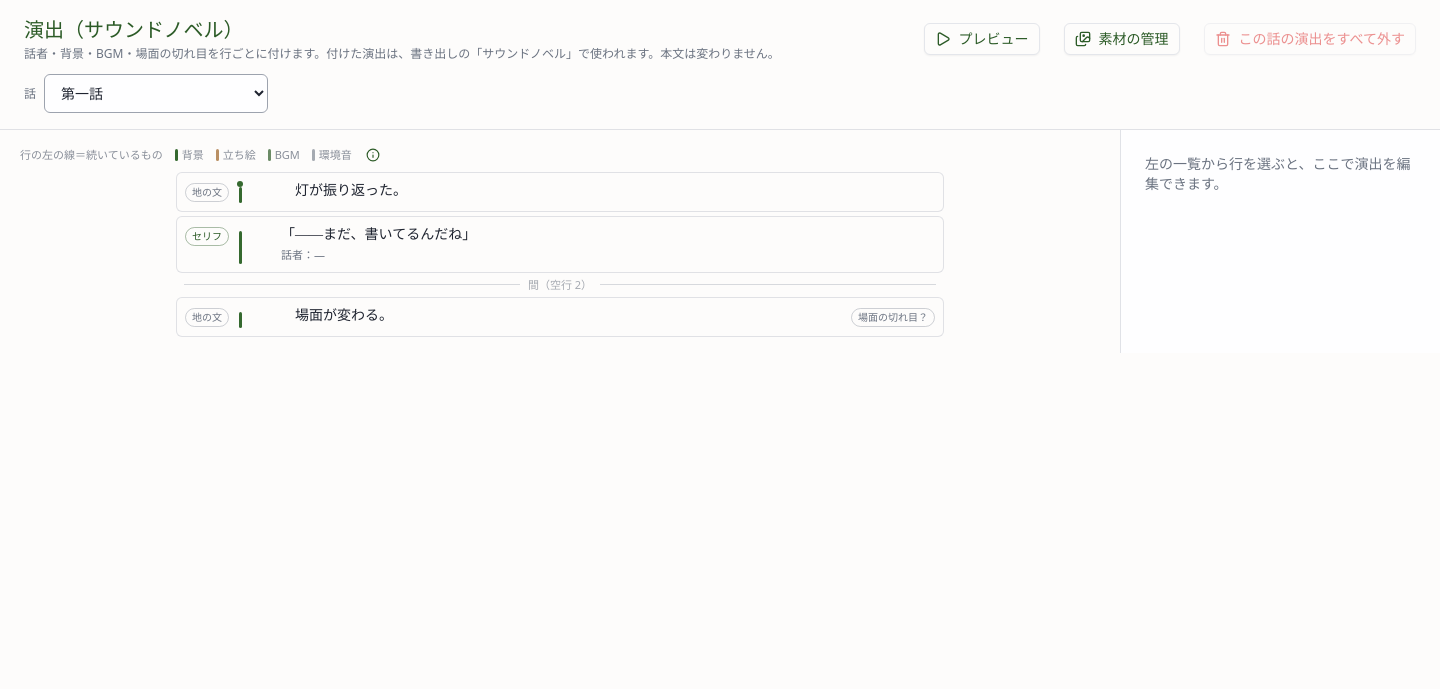
Test: StagingView（演出エディタ） › 地の文の行でも席に人物を立たせられる（話者は要らない）
Click the text "灯が振り返った。": (344, 190) [281, 183, 407, 198]
(page scrolled)
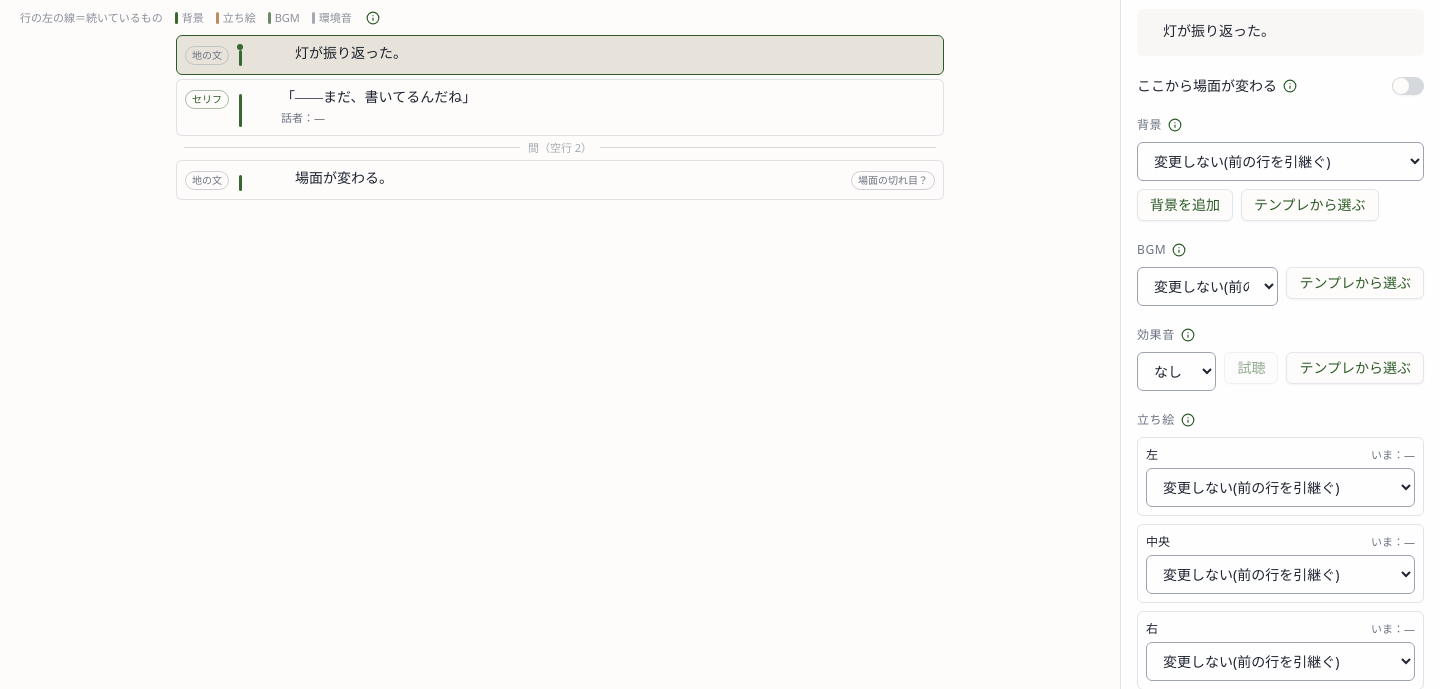
Select "灯" in the dropdown named "右の立ち絵": (1280, 661) [1146, 642, 1415, 681]
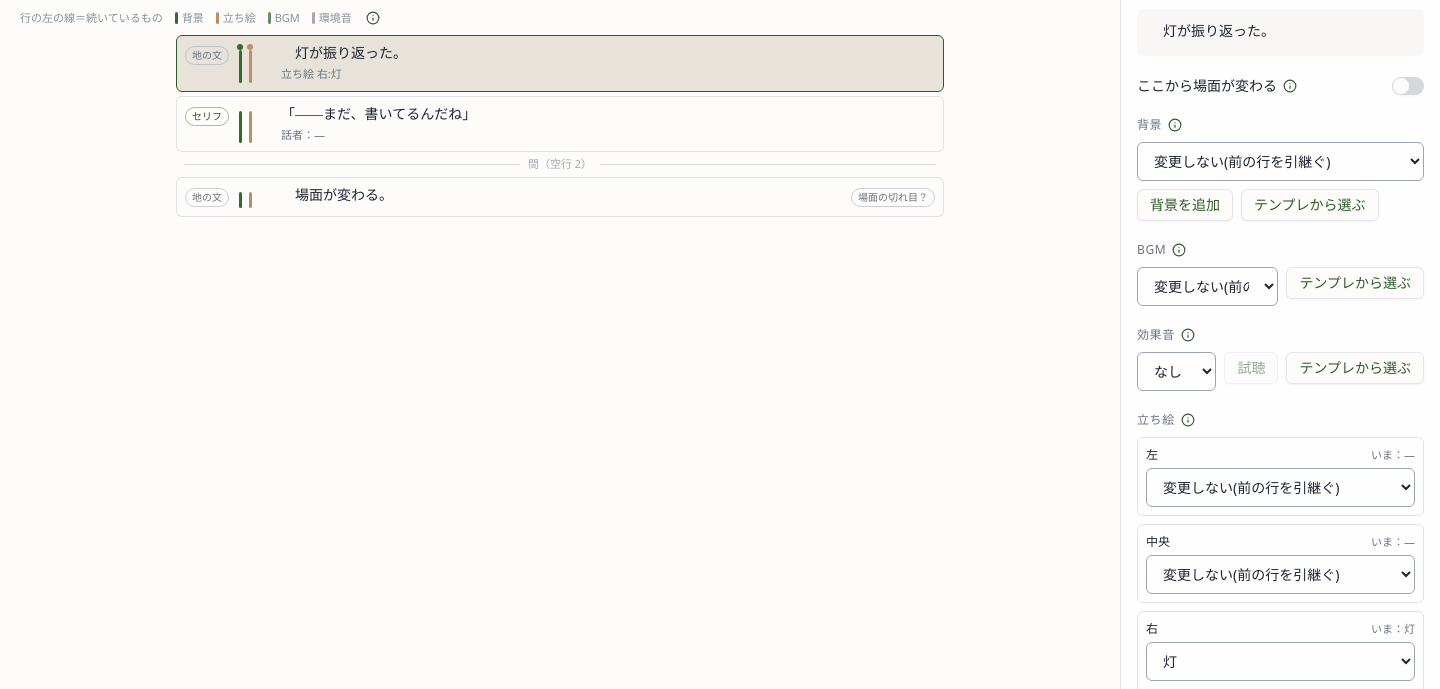
Expected: the number of elements titled "立ち絵：右 灯" is 3, [247, 44, 253, 82]; [248, 110, 252, 143]; [248, 192, 252, 208]
Result: the text "立ち絵 右:灯" is shown at [281, 66, 342, 82]
